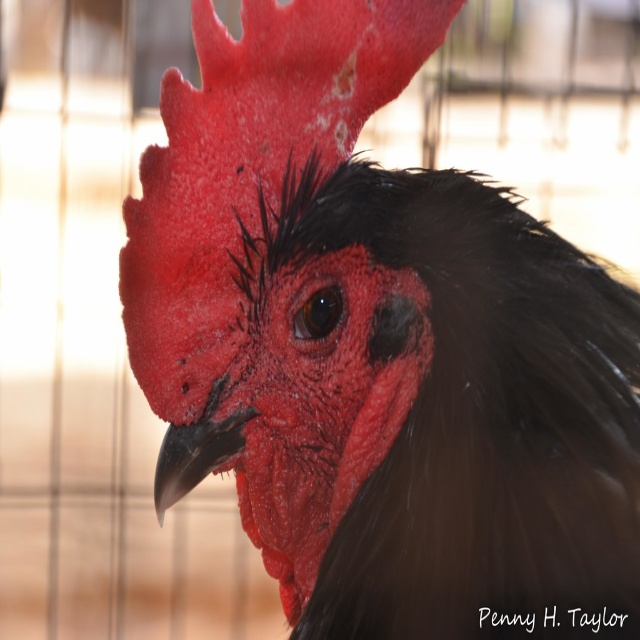Chicken: (118, 0, 640, 640)
